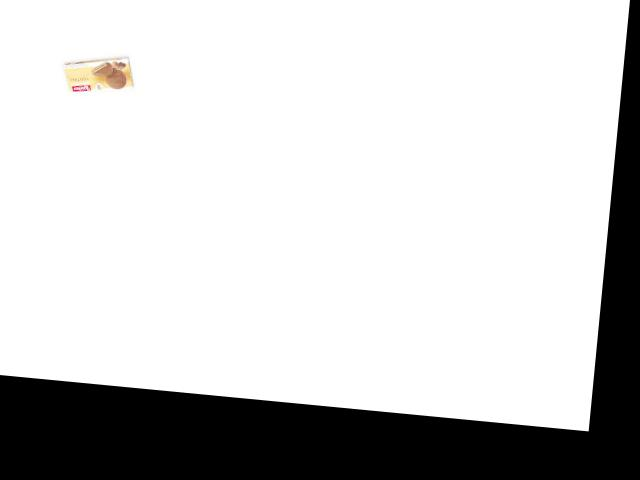chocolate: (49, 56, 140, 99)
